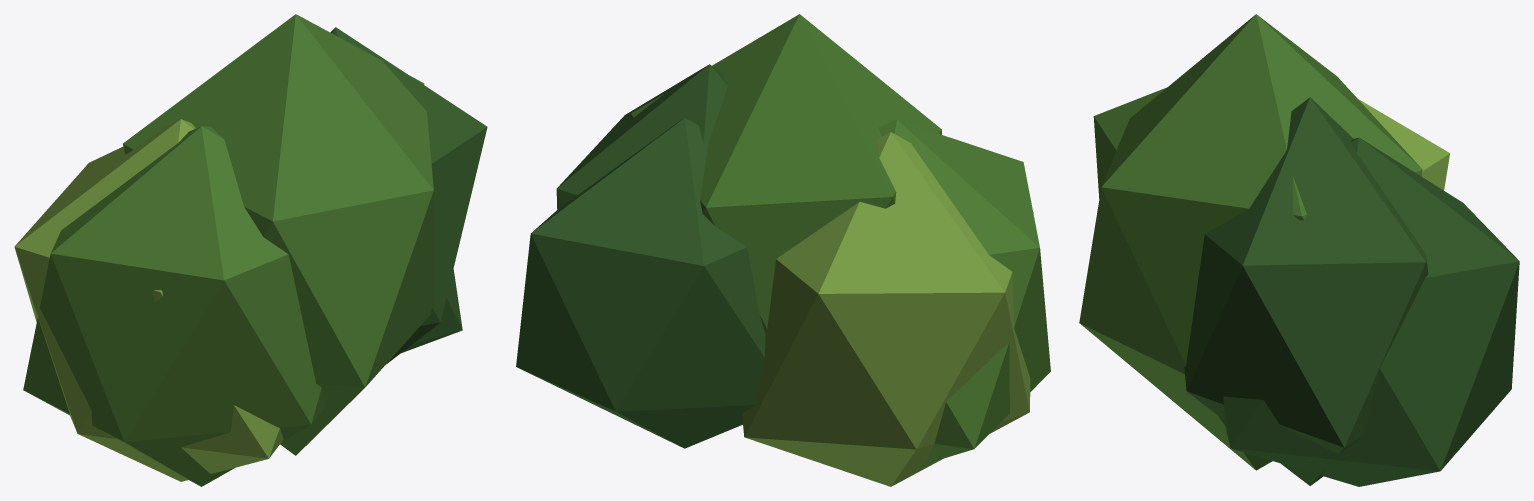
The model's file is UM_Busch_Rund.fbx.
The picture shows the model from 3 angles, left to right: view 1: azimuth 30°, elevation 25°; view 2: azimuth 150°, elevation 25°; view 3: azimuth 270°, elevation 25°; orthographic projection. The views are drawn at different scales.
Parts seen in each view (by area): view 1: UM_Busch_Rund; view 2: UM_Busch_Rund; view 3: UM_Busch_Rund.
Boxes of the visible parts, x1=… form: UM_Busch_Rund: x1=14, y1=14, x2=487, y2=486; UM_Busch_Rund: x1=516, y1=14, x2=1050, y2=486; UM_Busch_Rund: x1=1079, y1=14, x2=1519, y2=486.
Size of the model in its own units: 1.65 by 1.59 by 1.36.
